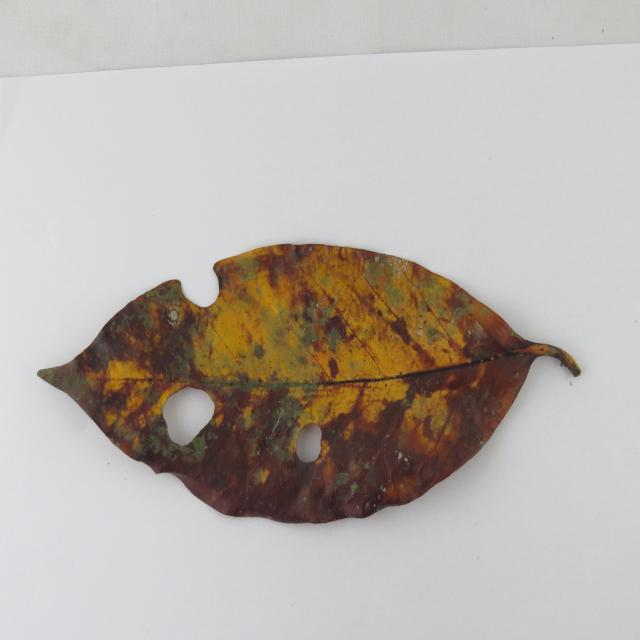DeficienciaNutricional-Fosforo: (38, 245, 580, 523)
